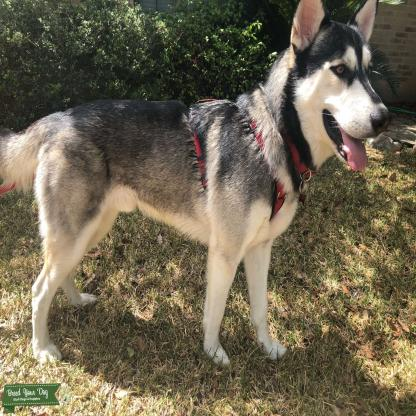husky: (0, 2, 388, 364)
